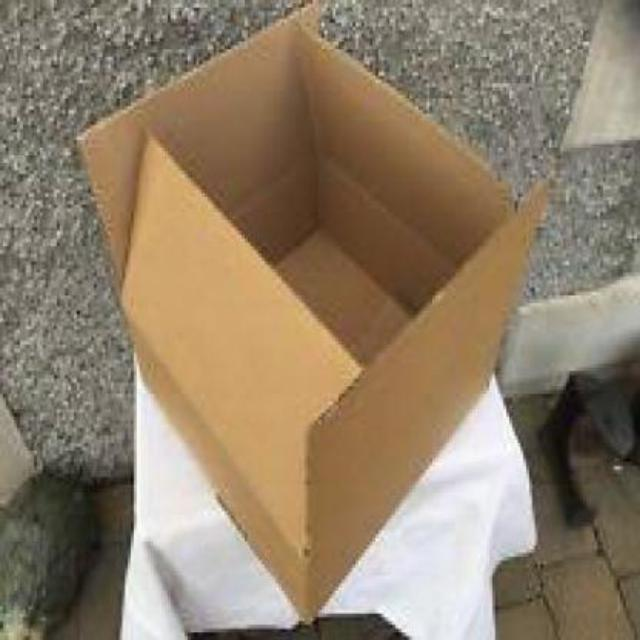cardboard_box: (76, 3, 534, 613)
